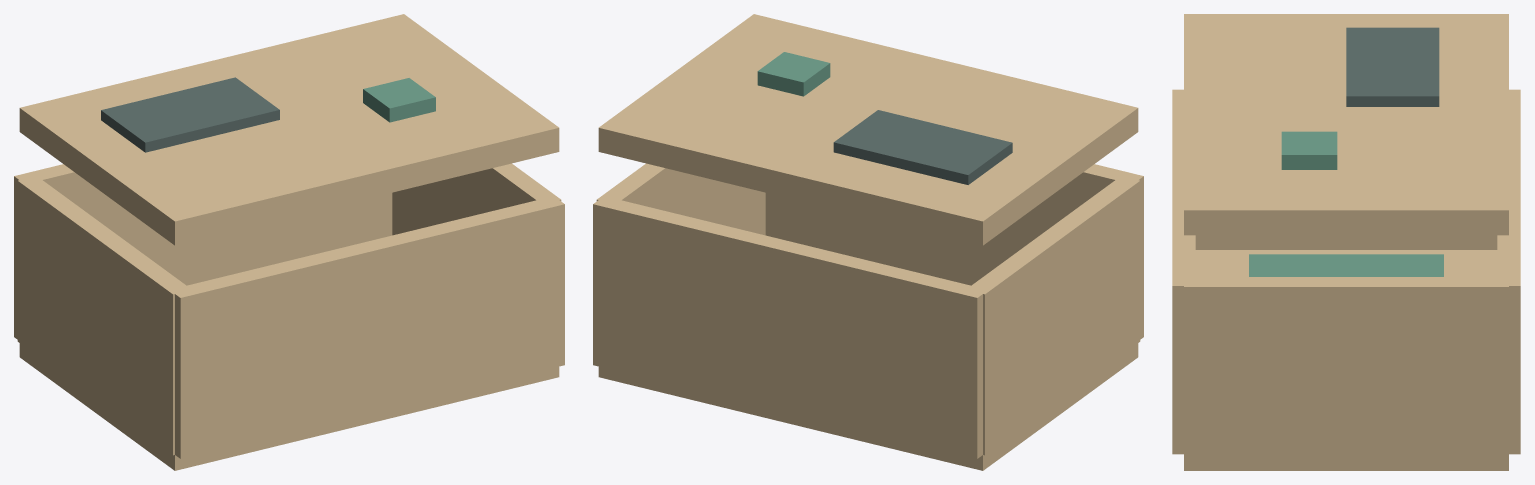
File: frequency-concept.glb
3 renders of one model, left to right at view 1: azimuth 30°, elevation 25°; view 2: azimuth 150°, elevation 25°; view 3: azimuth 270°, elevation 25°, orthographic. The views are drawn at different scales.
Bounding box in the file's own units: 1.01 × 0.6575 × 0.75.
